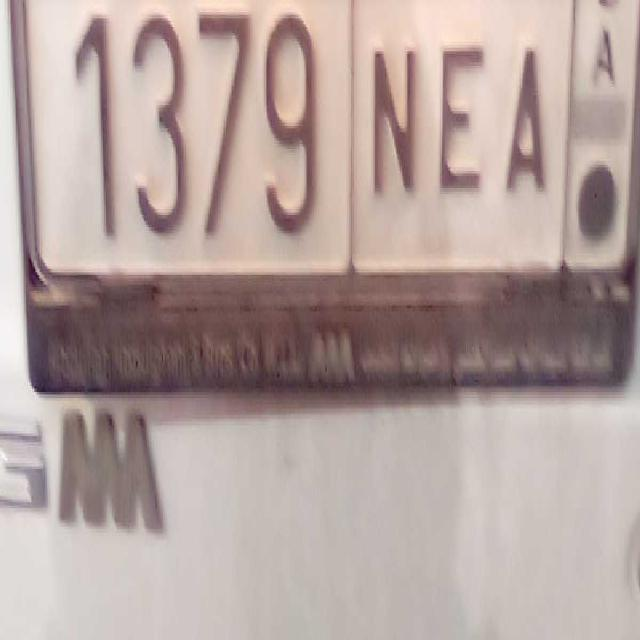license_plate: (44, 0, 564, 269)
